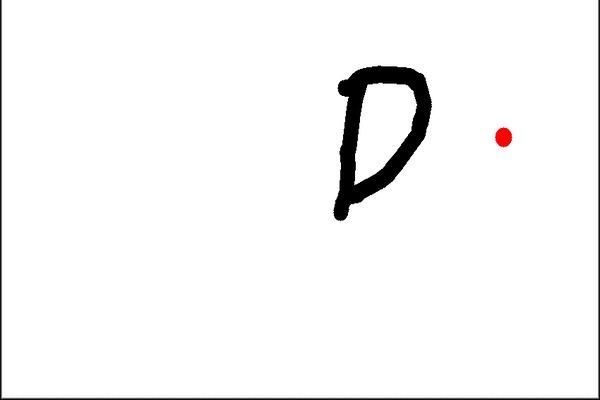D: (327, 57, 437, 223)
